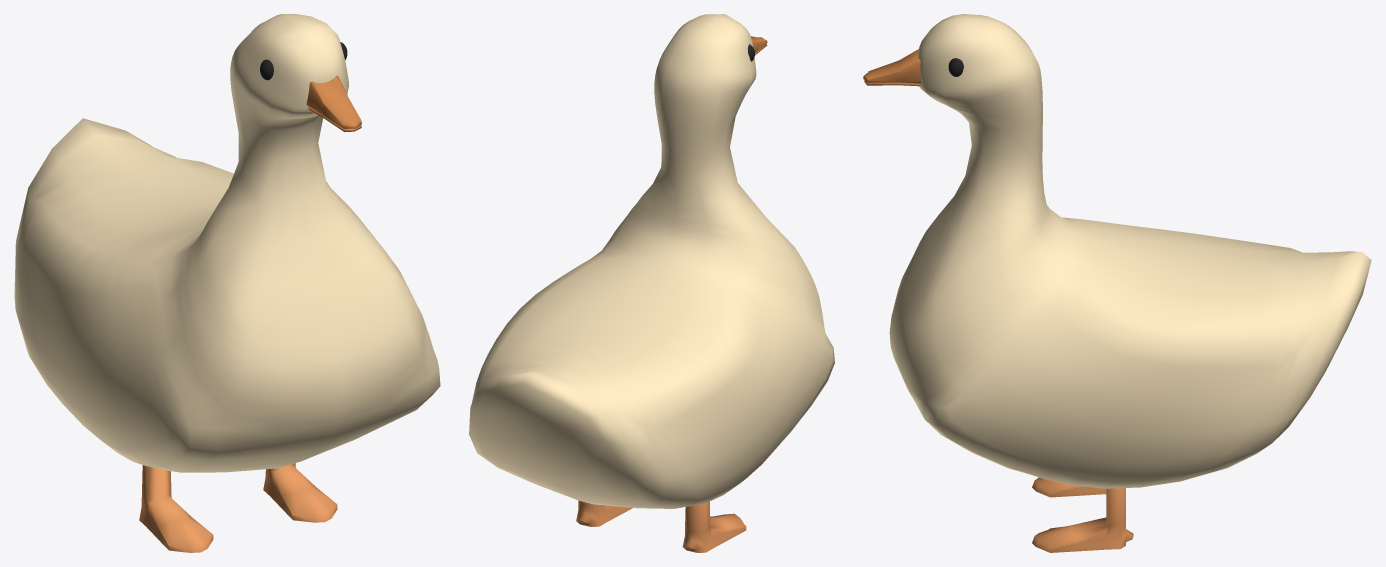
The model's file is goose.glb.
3 renders of one model, left to right at view 1: azimuth 30°, elevation 25°; view 2: azimuth 150°, elevation 25°; view 3: azimuth 270°, elevation 25°, orthographic. The views are drawn at different scales.
Parts seen in each view (by area): view 1: body, leftFoot, rightFoot, nose; view 2: body, leftFoot, rightFoot; view 3: body, rightFoot, nose, leftFoot.
Part boxes in pixels (x1,y1,x2,y2): body: (14, 14, 440, 472); leftFoot: (139, 465, 213, 552); rightFoot: (263, 463, 337, 522); nose: (306, 75, 361, 131); body: (469, 14, 834, 508); leftFoot: (682, 501, 746, 552); rightFoot: (576, 500, 632, 526); body: (889, 14, 1371, 488); rightFoot: (1032, 488, 1133, 552); nose: (863, 49, 921, 86); leftFoot: (1032, 477, 1106, 497).
Bounding box in the file's own units: 0.6811 × 1.26 × 1.17.
